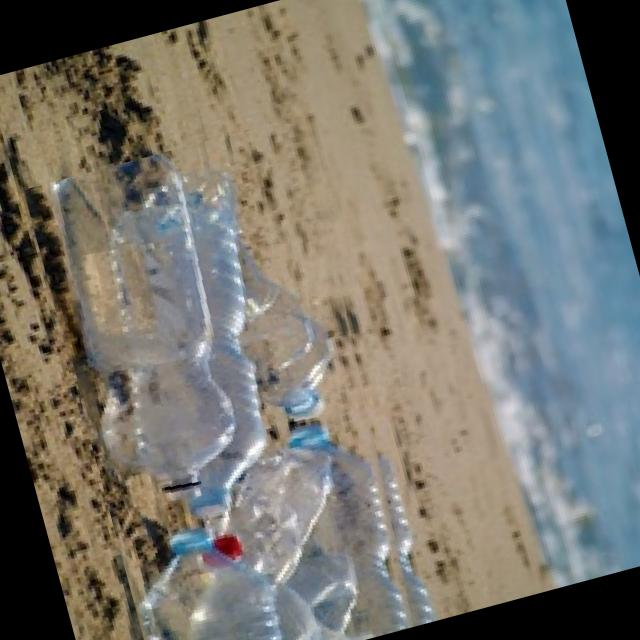plastic bottle: (22, 114, 438, 640), (312, 132, 316, 138)
